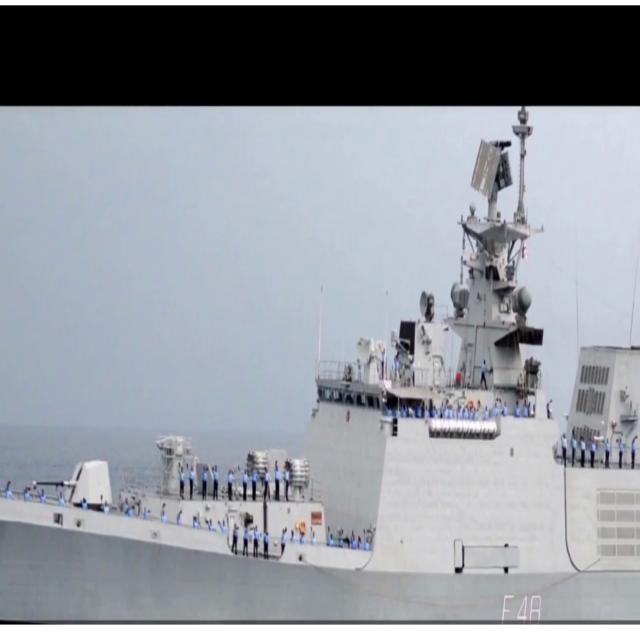OCR: (494, 588, 546, 624)
